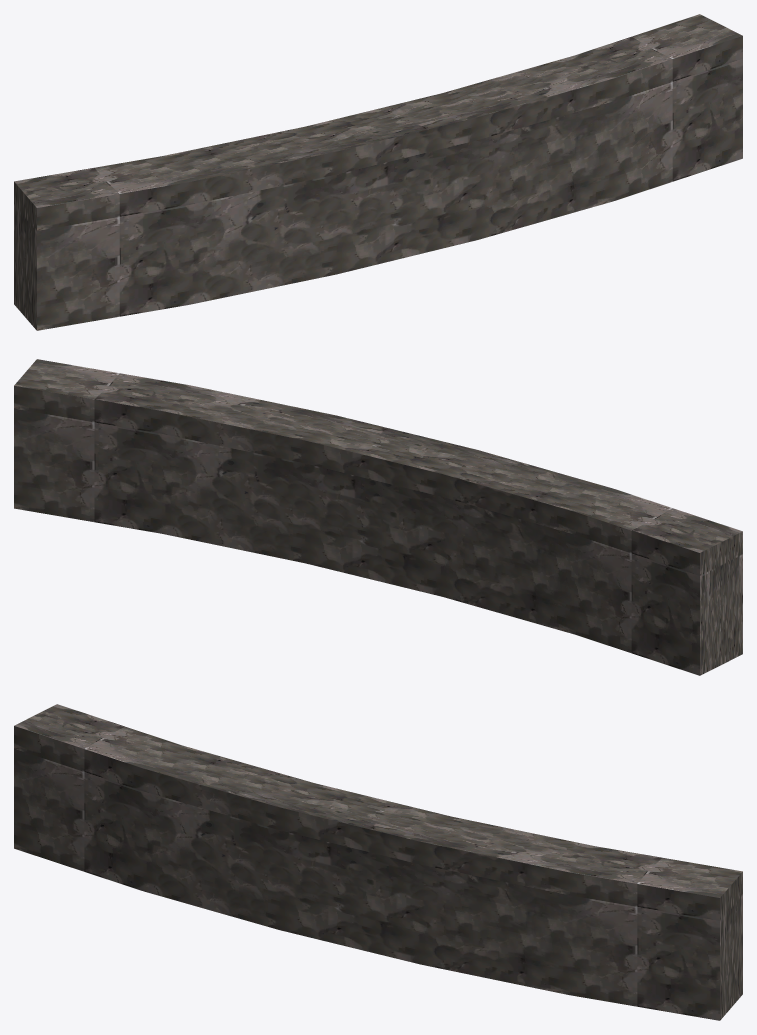
Rendered from CH09_SMAUG_PLAYSURFACE_LAIR78.fbx.
3 renders of one model, top to bottom at view 1: azimuth 30°, elevation 25°; view 2: azimuth 150°, elevation 25°; view 3: azimuth 330°, elevation 25°, orthographic.
Visible parts, largest first — view 1: CH09_SMAUG_PLAYSURFACE_LAIR78; view 2: CH09_SMAUG_PLAYSURFACE_LAIR78; view 3: CH09_SMAUG_PLAYSURFACE_LAIR78.
Boxes of the visible parts, left/top/right/bottom form: CH09_SMAUG_PLAYSURFACE_LAIR78: left=14, top=14, right=742, bottom=330; CH09_SMAUG_PLAYSURFACE_LAIR78: left=14, top=359, right=742, bottom=675; CH09_SMAUG_PLAYSURFACE_LAIR78: left=14, top=704, right=742, bottom=1020.
Size of the model in its own units: 144419 by 24006 by 17759.
1 material, 1 textured.
